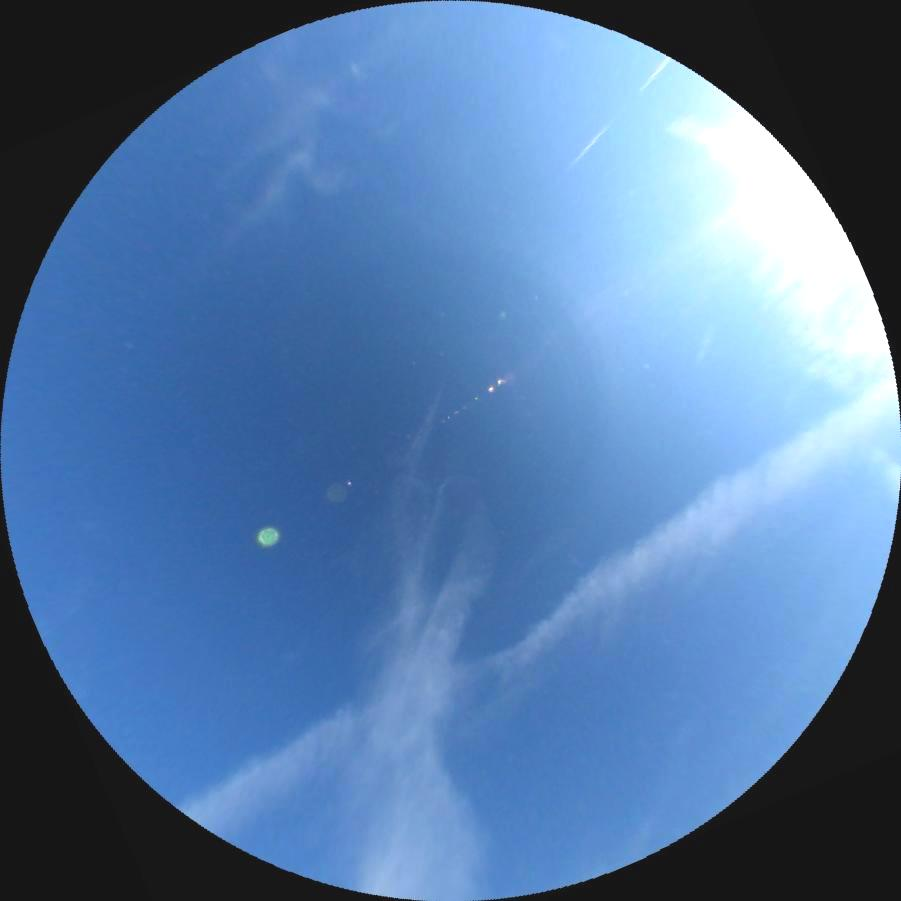contrail veryold: (690, 109, 901, 414), (662, 114, 755, 174)
contrail young: (559, 55, 672, 177)
